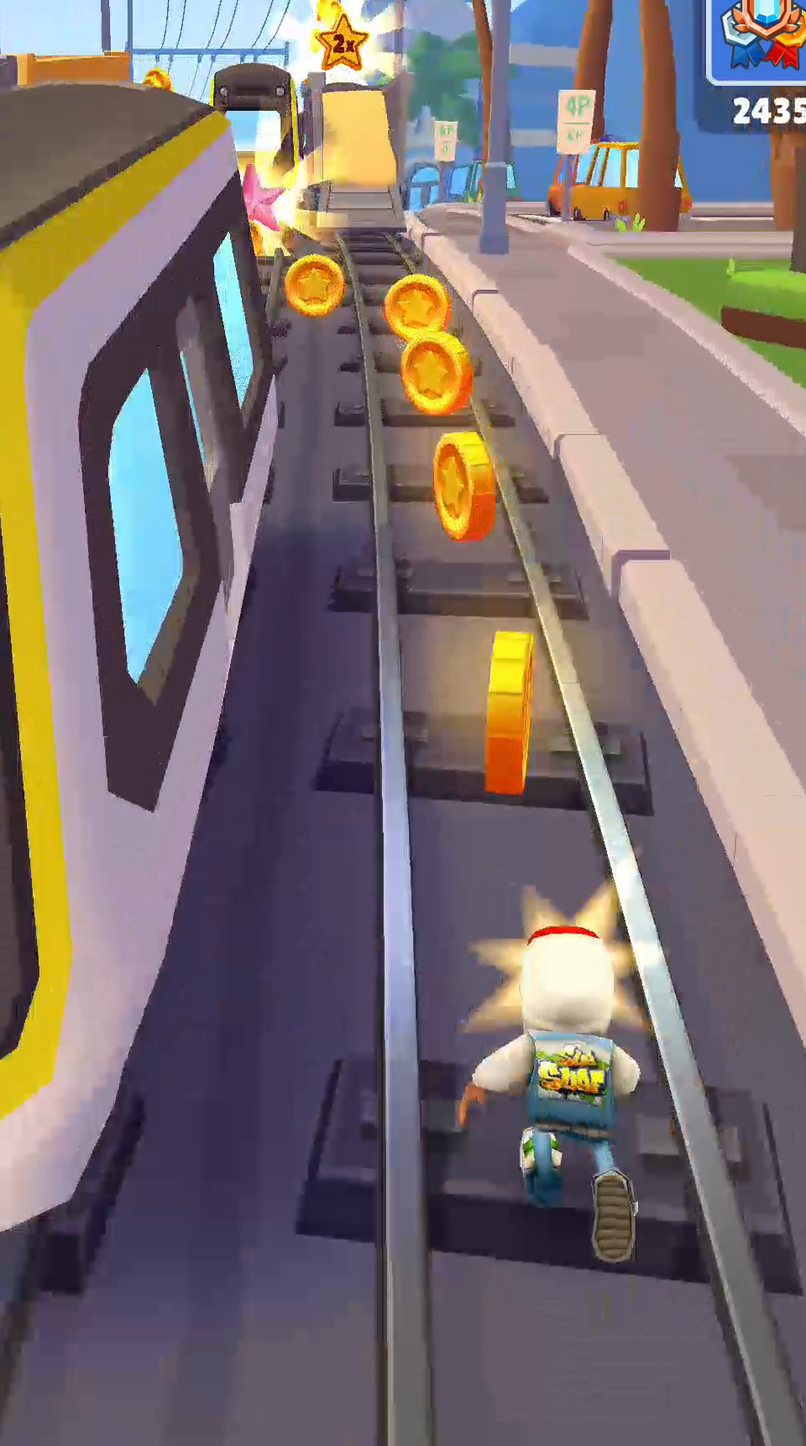climber: (299, 71, 404, 243)
train: (0, 81, 277, 1247), (212, 63, 301, 184), (13, 51, 129, 86)
